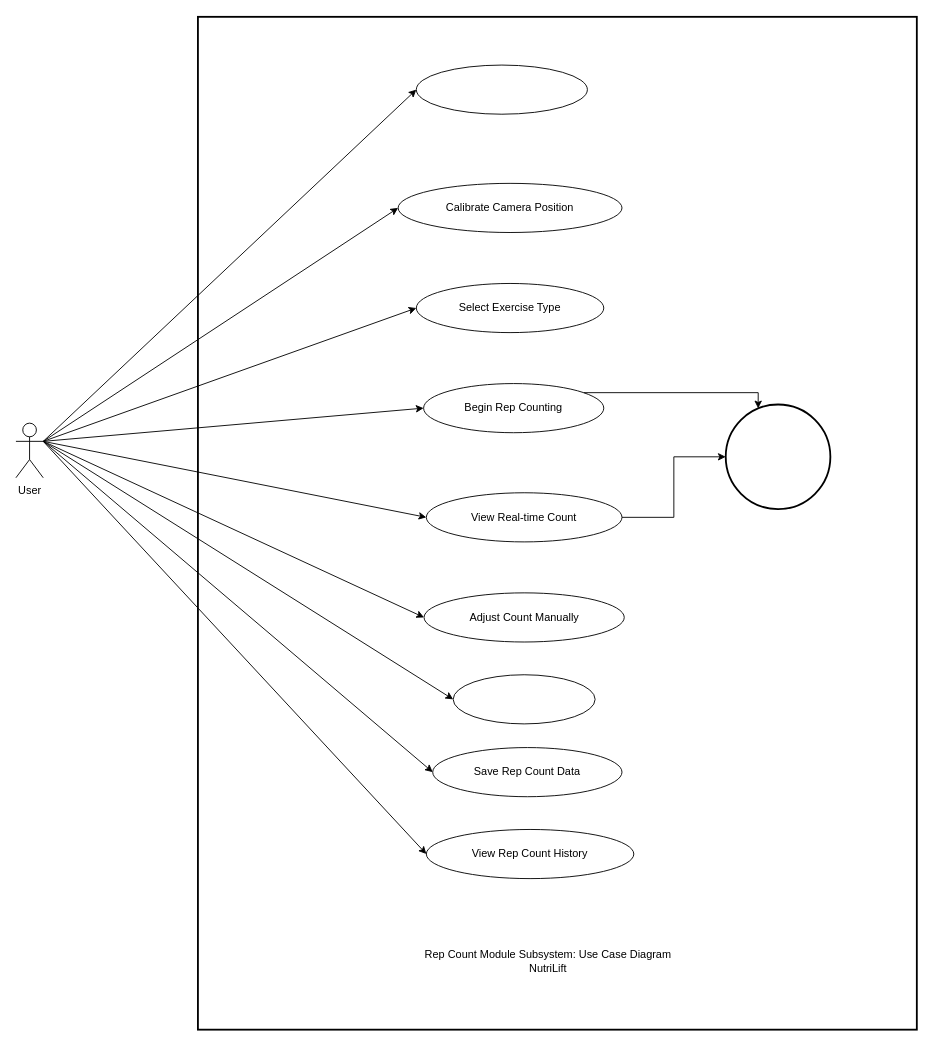
Some shapes in this 934 by 1046 pixel diagram are drawn without their labels. Here are the shapes that lost their labels. From the top down, the centre of each, then its label:
point (501, 89): Start Rep Counter
point (777, 456): ML Kit Service
point (523, 699): Complete Set
